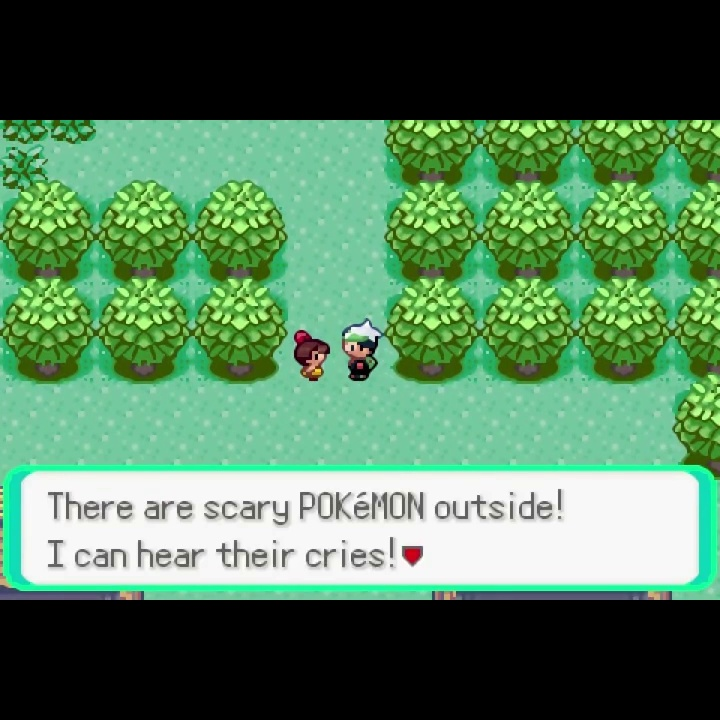grass: (1, 145, 50, 193), (1, 121, 50, 145), (50, 120, 93, 144)
npc: (338, 316, 387, 385), (288, 327, 333, 385)
wall: (189, 279, 290, 385), (191, 178, 290, 283), (480, 277, 577, 384), (577, 278, 674, 385), (1, 277, 97, 384), (386, 276, 479, 385), (95, 277, 190, 383), (97, 178, 191, 282), (577, 180, 672, 282), (1, 179, 96, 280), (385, 182, 481, 280), (481, 181, 577, 277), (383, 120, 480, 186), (576, 120, 672, 182), (483, 120, 577, 180), (674, 179, 720, 279), (672, 371, 720, 465), (673, 276, 720, 372), (673, 119, 720, 182)
